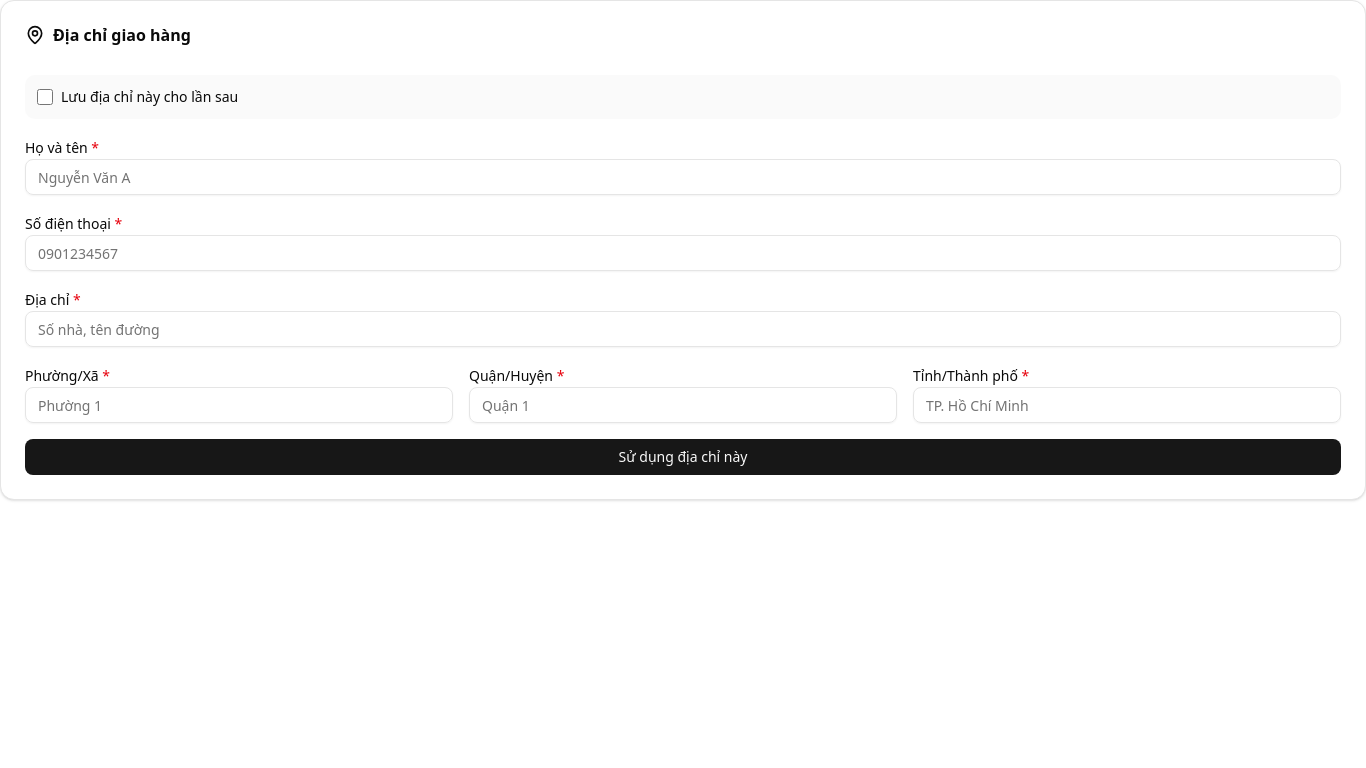
Scenario: M06 AddressSelector label and error associations › associates the address-label label with the select control
What coordinates should you click on to do the following:
click the checkbox labelled "Lưu địa chỉ này cho lần sau"
I would click on:
 (45, 97)
Its box is [37,89,53,105].
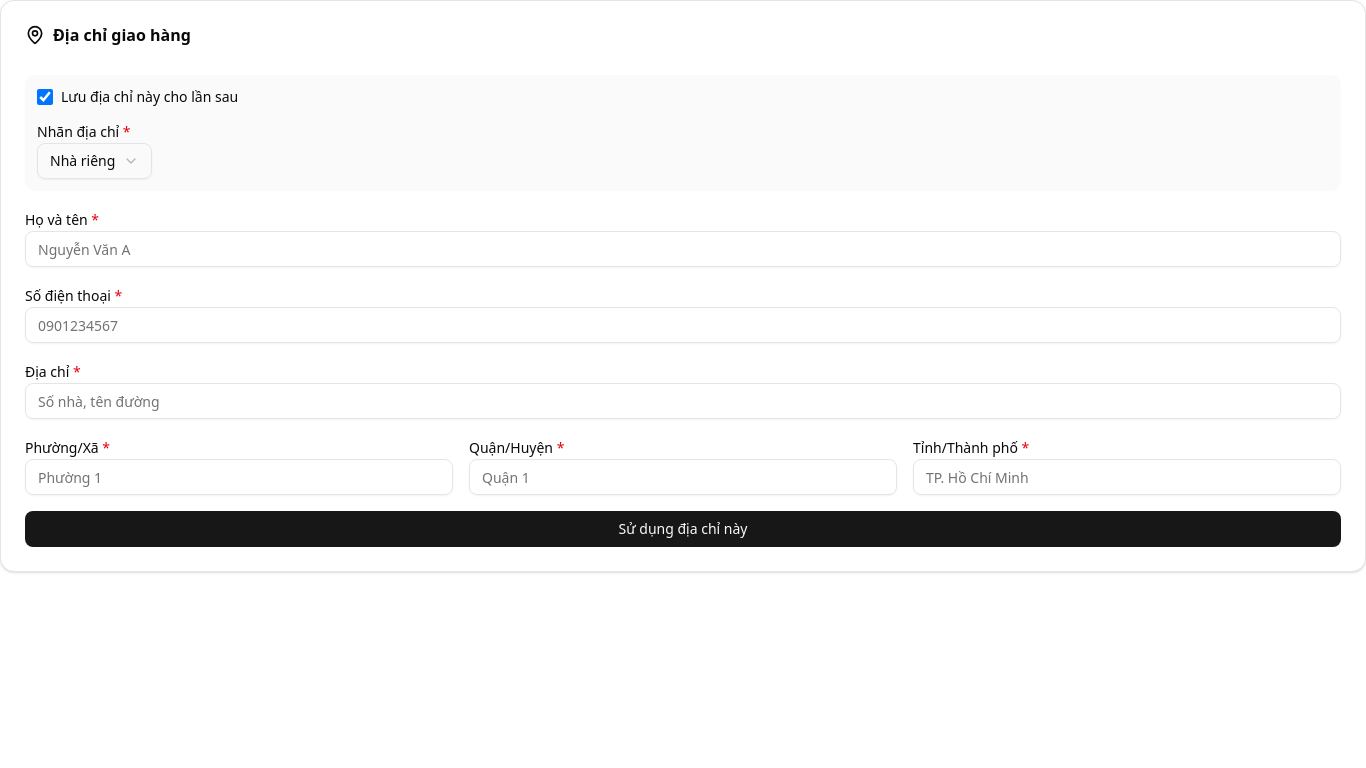
Now the label "Nhãn địa chỉ *" is shown, box [37,122,130,141]
